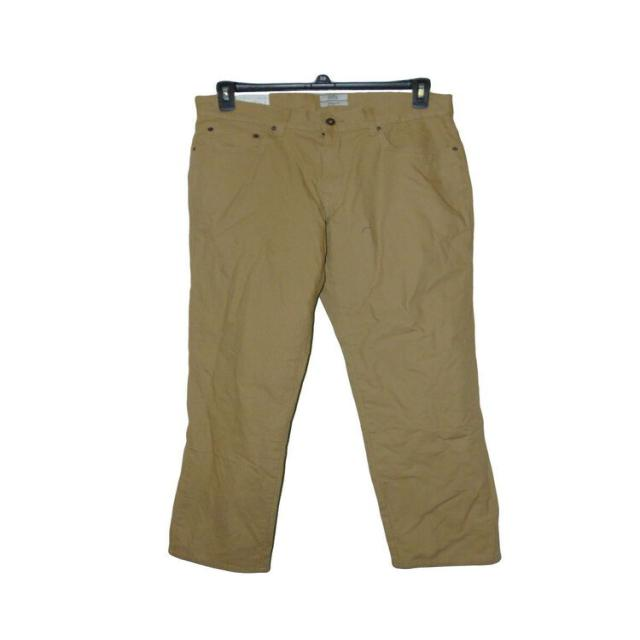long-pants: (171, 88, 503, 573)
